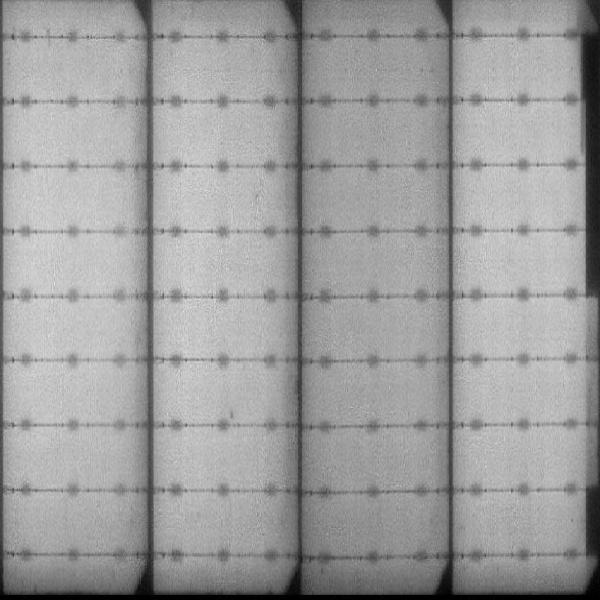black_border: (578, 30, 600, 301), (581, 483, 600, 562)
